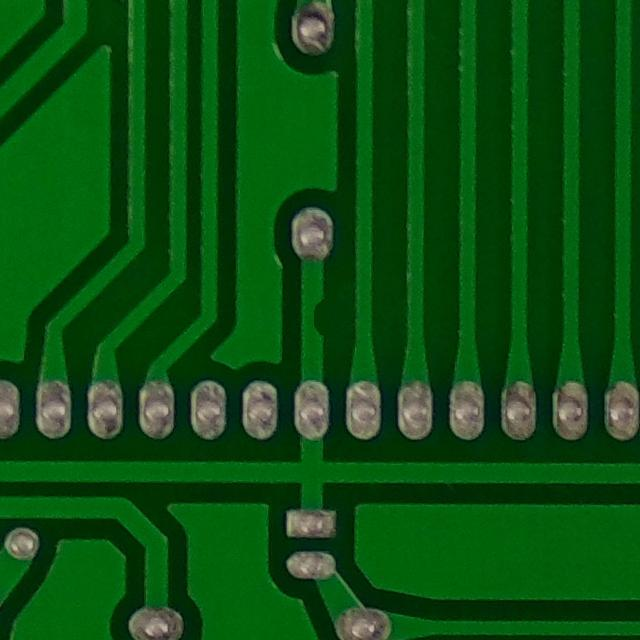mouse_bite: (295, 293, 345, 348)
